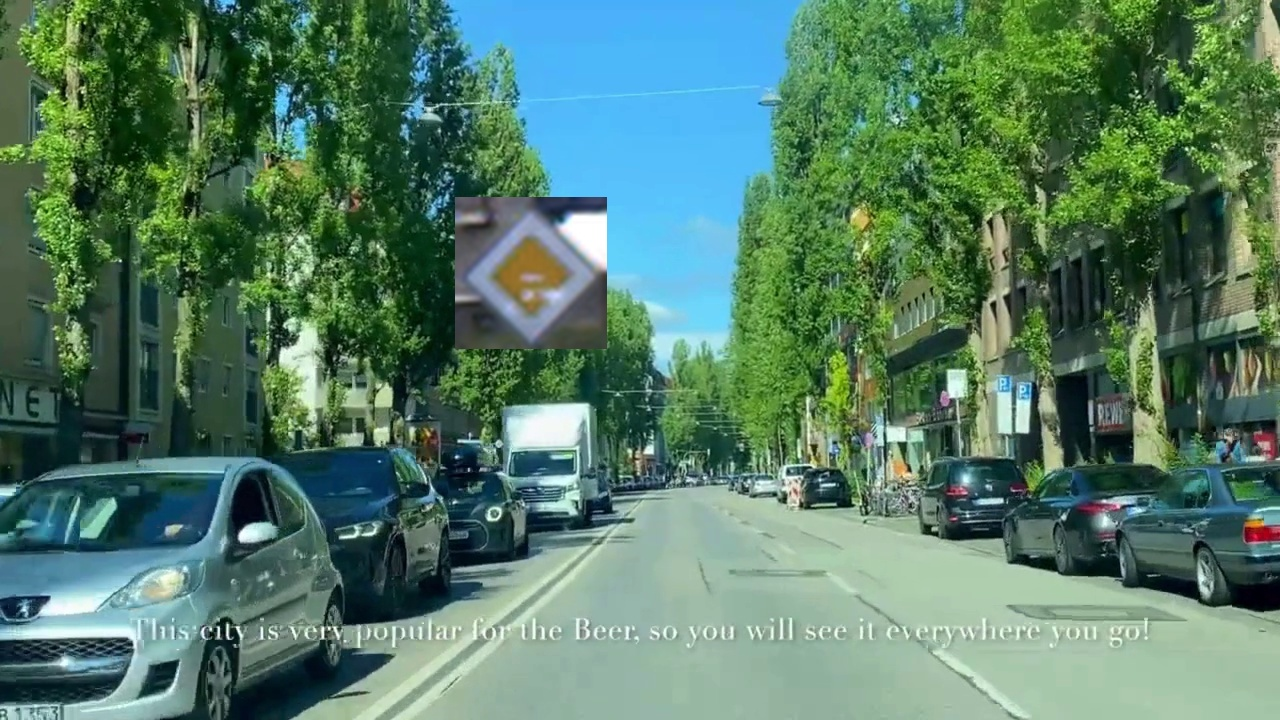Priority road: (455, 197, 607, 349)
